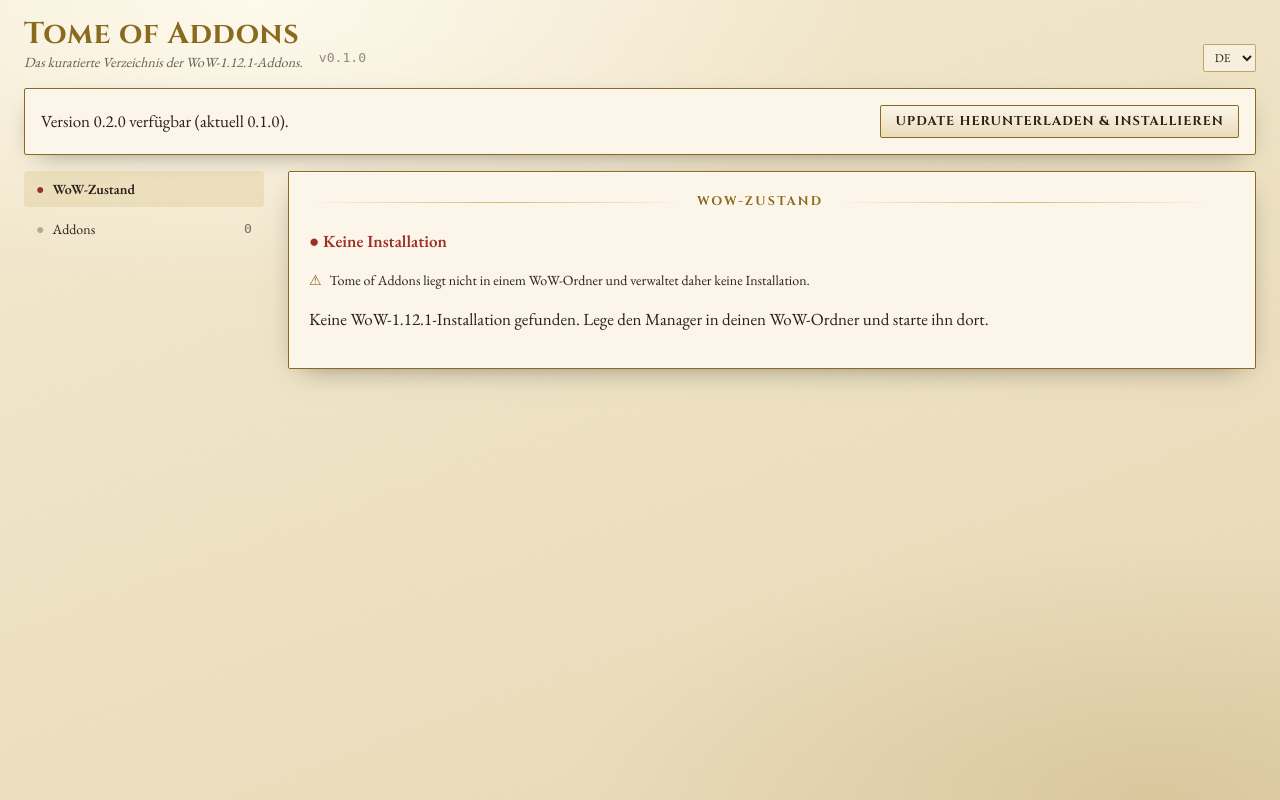
Test: App – Update-Flow (automatischer Check) › meldet einen fehlgeschlagenen Download
Click the button "Update herunterladen & installieren".
click(1060, 122)  # box [880, 105, 1239, 138]
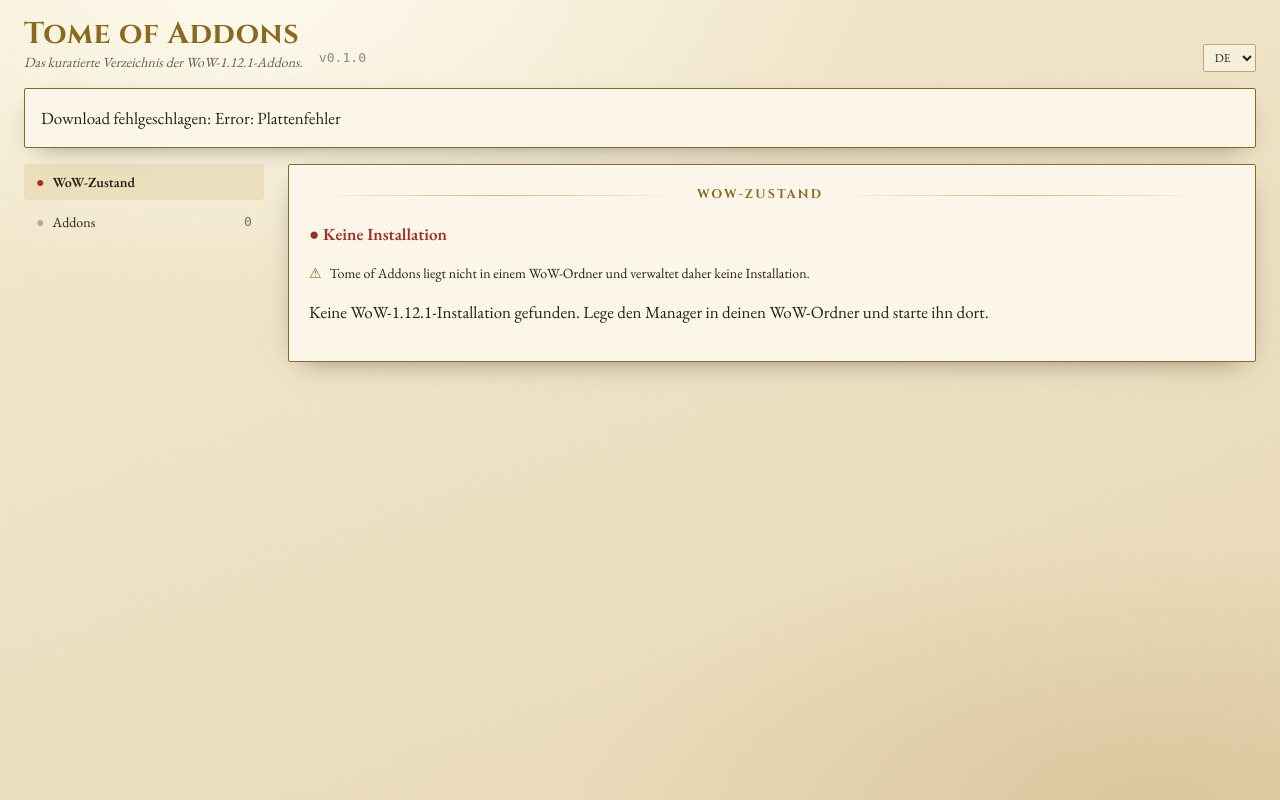
Check: the text "Download fehlgeschlagen" is shown, box [41, 107, 341, 129]
